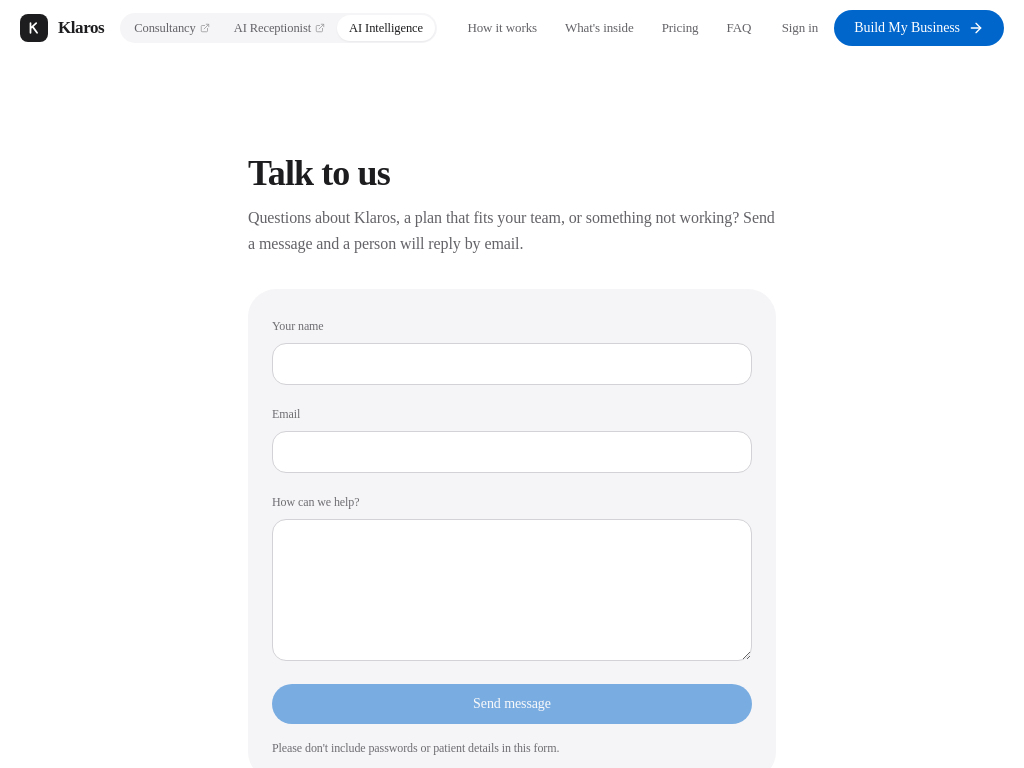
Test: Contact › sends the message only when it is complete, then confirms
The image size is (1024, 768).
Expected: the button "Send message" is disabled, x1=272 y1=684 x2=752 y2=724
Type "Pat" into the field labelled "Your name" at (512, 364), box x1=272 y1=343 x2=752 y2=385
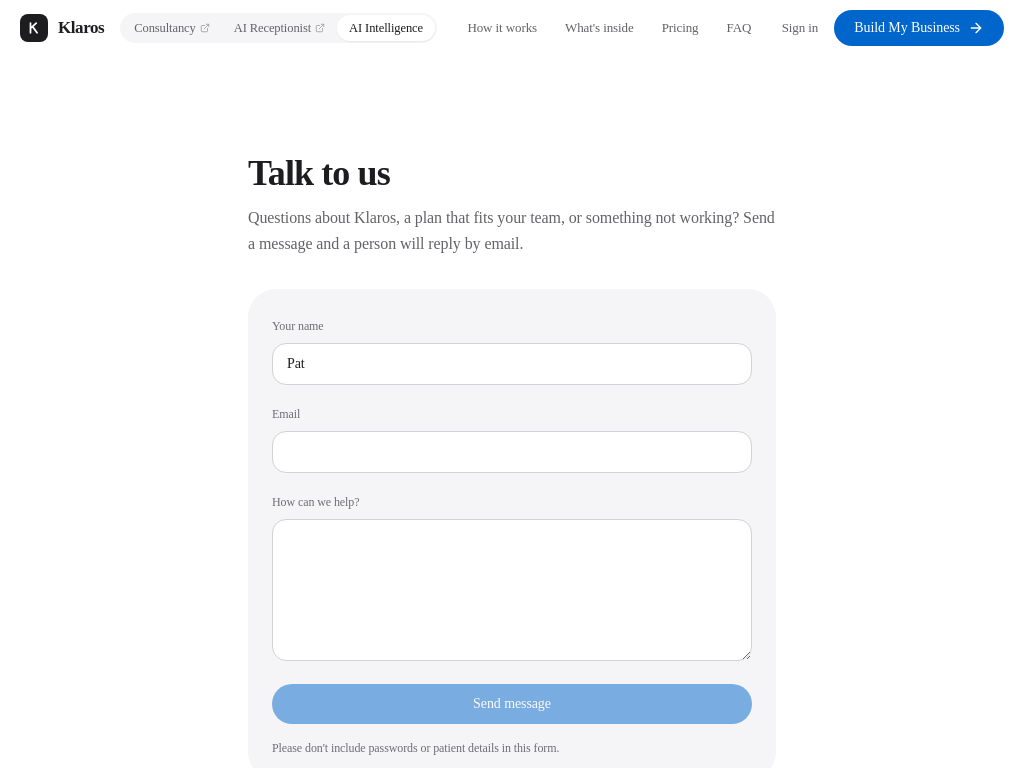
Type "pat@example.com" into the field labelled "Email" at (512, 452), box x1=272 y1=431 x2=752 y2=473
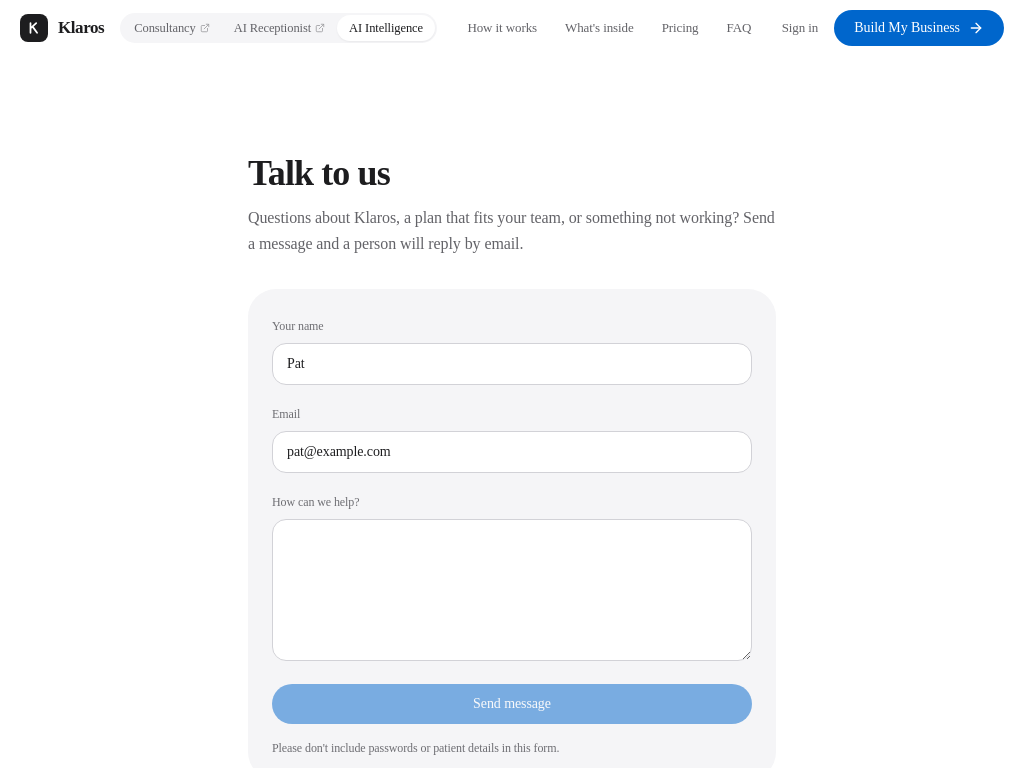
Type "short" into the text box labelled "How can we help?" at (512, 590), box x1=272 y1=519 x2=752 y2=661
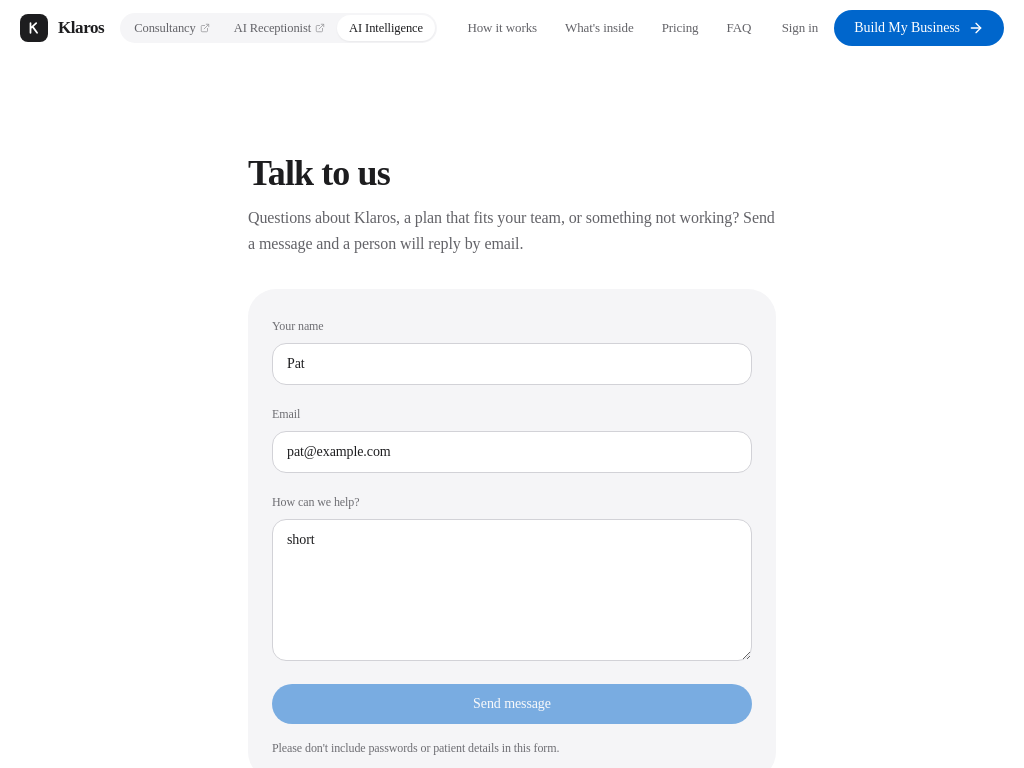
Expected: the button "Send message" is disabled, x1=272 y1=684 x2=752 y2=724
Replace the text in the text box labelled "How can we help?" with "I would like to see a demo." at (512, 590), box x1=272 y1=519 x2=752 y2=661
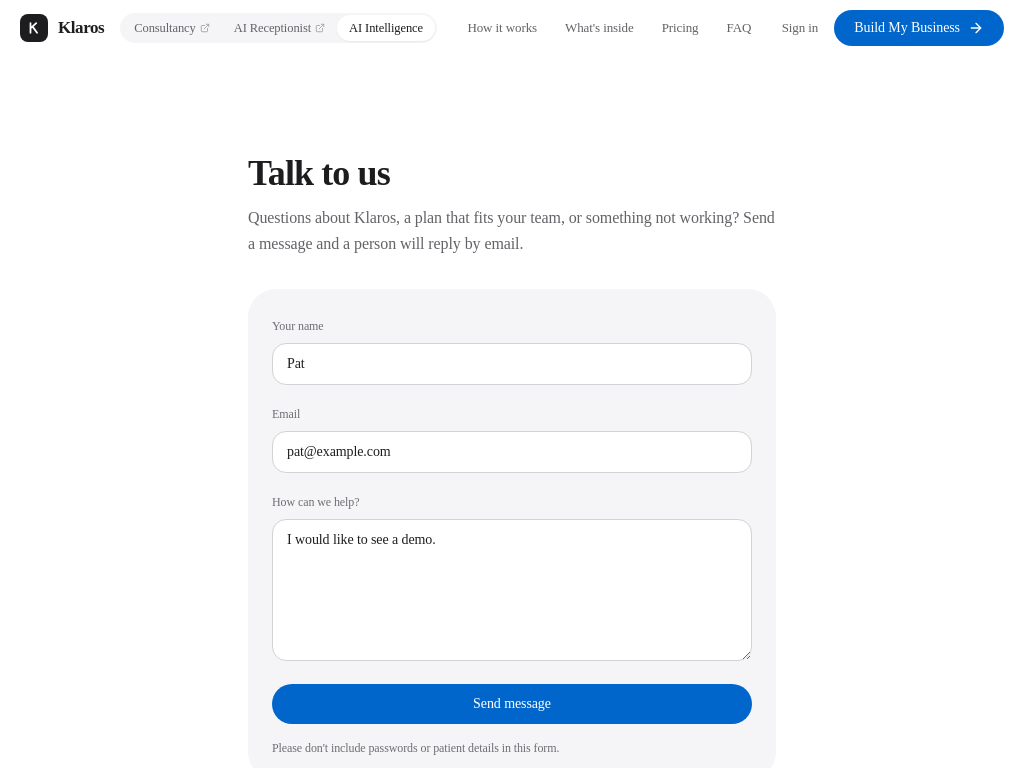
Click the button "Send message" at (512, 704), box x1=272 y1=684 x2=752 y2=724
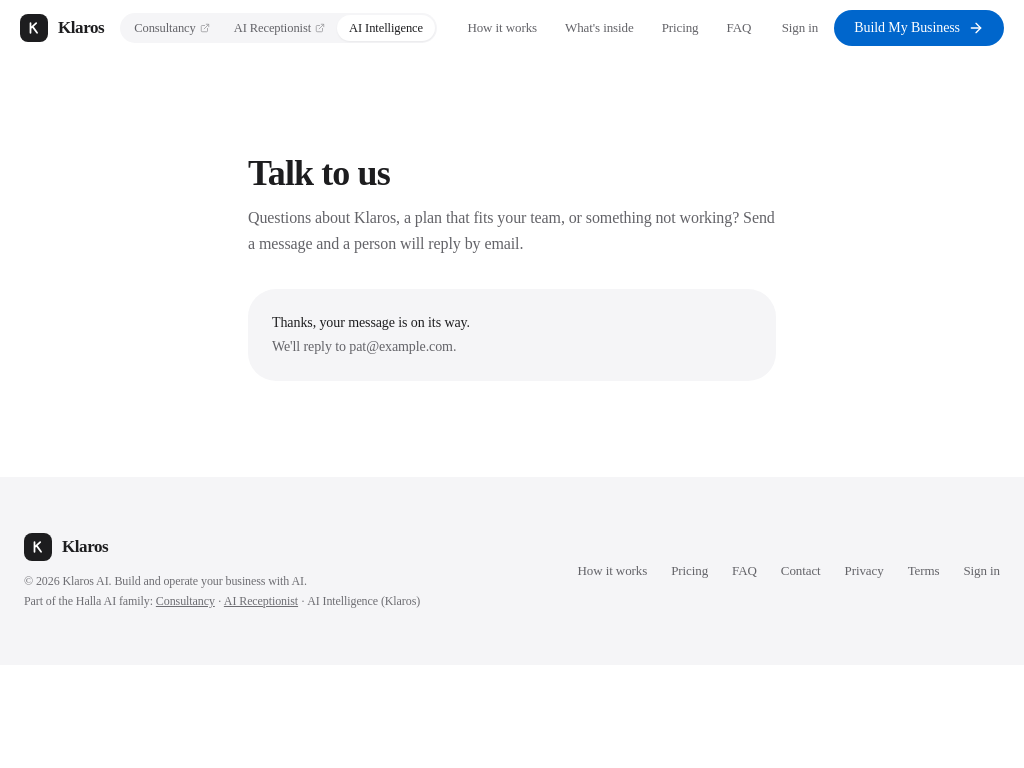
Now the message shows "on its way", box x1=272 y1=315 x2=470 y2=330
